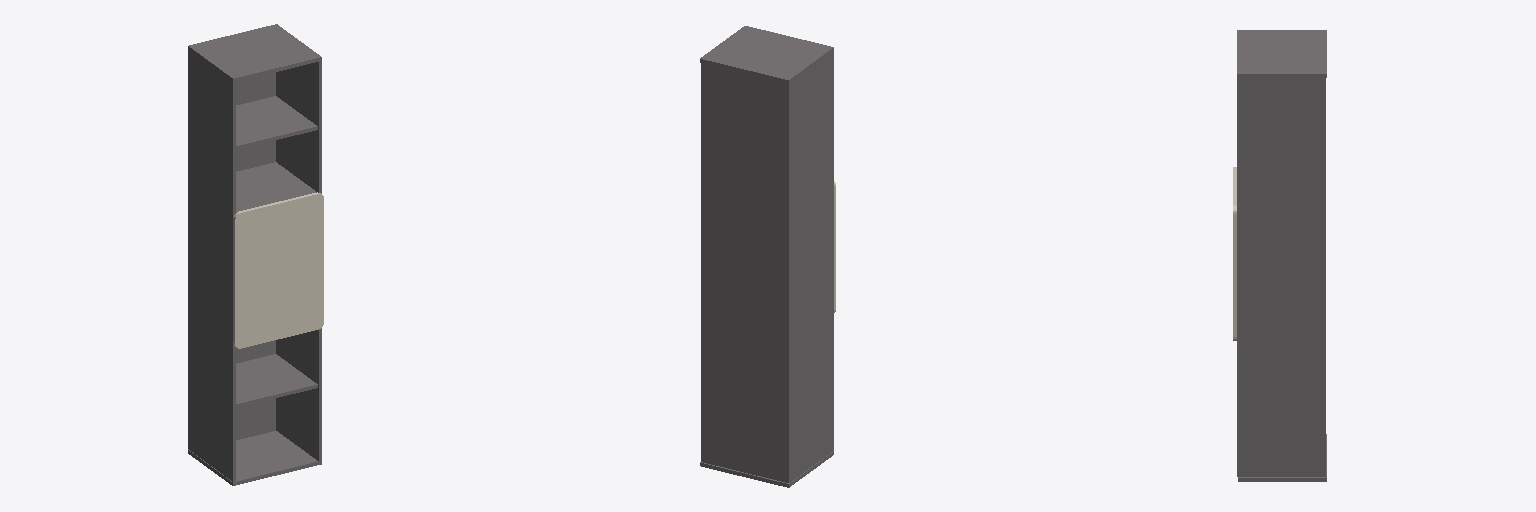
File: 2pir_regal_waski.obj
The picture shows the model from 3 angles: view 1: azimuth 30°, elevation 25°; view 2: azimuth 150°, elevation 25°; view 3: azimuth 270°, elevation 25°; orthographic projection.
Parts seen in each view (by area): view 1: Object002, Rectangle14, Object, Box10, Plane001, Box02, Box12, Box13, Box17; view 2: Line01, Object002, Box10, Box02; view 3: Object, Box10, Rectangle14.
Boxes of the visible parts, box(x1,y1,x2,y2) form: Object002: box(188, 50, 235, 481); Rectangle14: box(233, 192, 323, 348); Object: box(276, 61, 321, 460); Box10: box(188, 24, 321, 81); Plane001: box(236, 72, 275, 439); Box02: box(188, 431, 321, 485); Box12: box(236, 354, 317, 407); Box13: box(236, 96, 317, 149); Box17: box(236, 162, 316, 212); Line01: box(701, 63, 788, 482); Object002: box(789, 51, 833, 482); Box10: box(700, 26, 833, 83); Box02: box(700, 451, 833, 487); Object: box(1237, 78, 1325, 476); Box10: box(1237, 30, 1326, 77); Rectangle14: box(1233, 167, 1236, 340).
Size of the model in its own units: 48.84 by 214 by 45.02.